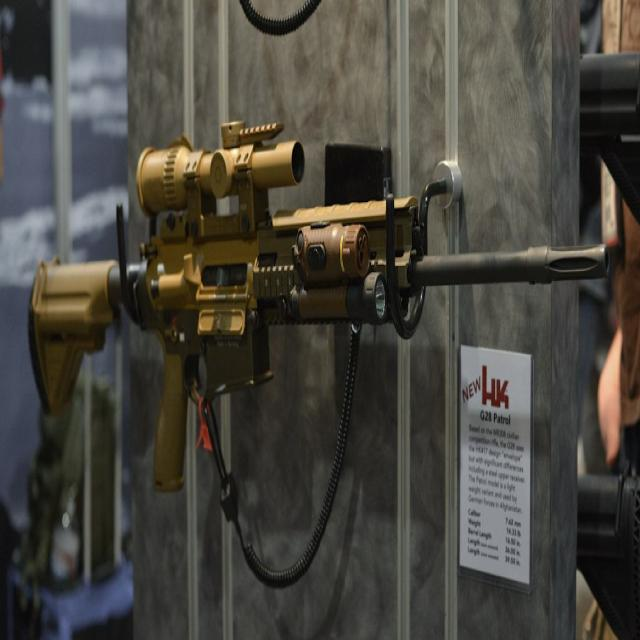firearm: (26, 115, 612, 497)
